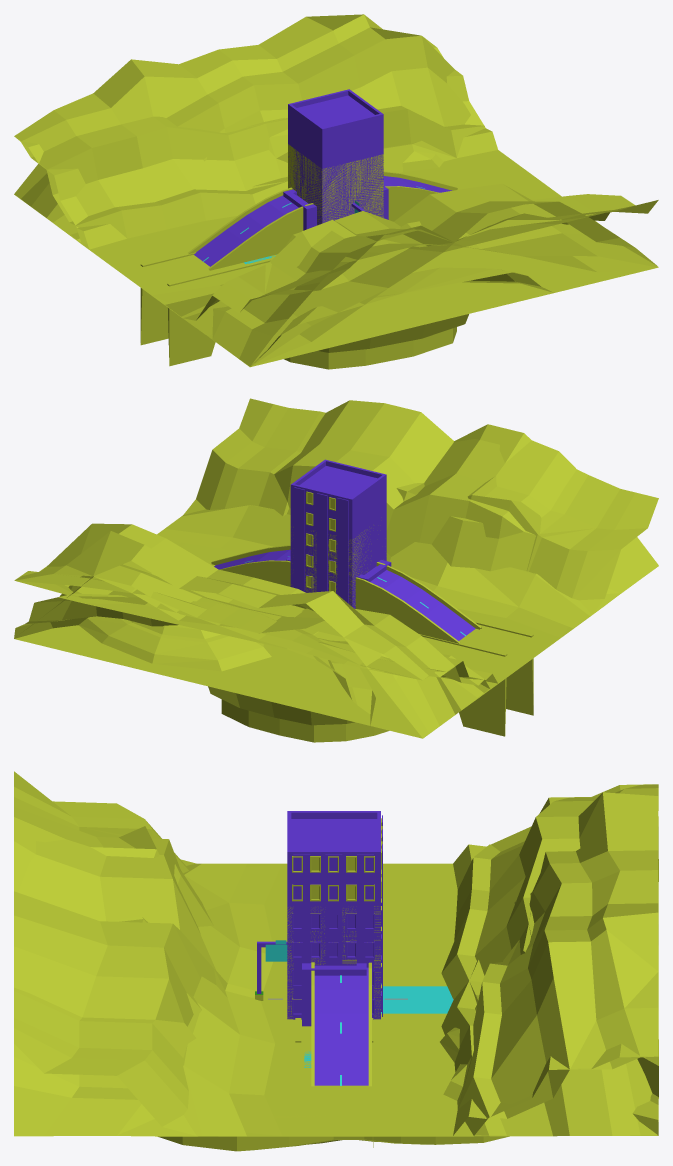
Rendered from env.FBX.
The picture shows the model from 3 angles, top to bottom: view 1: azimuth 30°, elevation 25°; view 2: azimuth 150°, elevation 25°; view 3: azimuth 270°, elevation 25°; orthographic projection. The views are drawn at different scales.
Visible parts, largest first — view 1: Biom01_central, Biom01_end, Biom01_01, Biom00_plane, Biom01_start, Box01, Biom00_dune, Biom00_roche, Biom01_mir01, Biom00_canionne, Pontdessou00, Box02 (+3 smaller); view 2: Biom01_central, Biom01_end, Biom01_start, Biom01_01, Biom01_mir01, Biom00_canionne, Biom00_dune, Biom00_plane, Box01, Biom00_roche, Pontdessou00, Box03 (+3 smaller); view 3: Biom01_central, Biom01_start, Biom01_01, Biom01_end, Biom01_mir01, Biom00_dune, Box01, Biom00_roche, Pontdessou00, Box03, Biom00_canionne, Biom00_lac (+4 smaller).
Part boxes in pixels (x1,y1,x2,y2): Biom01_central: (14, 14, 618, 320); Biom01_end: (14, 116, 657, 366); Biom01_01: (69, 37, 658, 320); Biom00_plane: (84, 151, 655, 365); Biom01_start: (152, 118, 657, 366); Box01: (288, 89, 383, 224); Biom00_dune: (46, 151, 652, 365); Biom00_roche: (19, 150, 653, 365); Biom01_mir01: (16, 37, 658, 366); Biom00_canionne: (14, 150, 654, 369); Pontdessou00: (188, 171, 457, 270); Box02: (288, 144, 383, 225); Biom01_central: (47, 408, 658, 685); Biom01_end: (15, 439, 658, 737); Biom01_start: (23, 400, 568, 683); Biom01_01: (15, 469, 647, 688); Biom01_mir01: (14, 398, 657, 682); Biom00_canionne: (15, 530, 571, 742); Biom00_dune: (21, 544, 577, 737); Biom00_plane: (17, 529, 571, 737); Box01: (290, 459, 386, 608); Biom00_roche: (14, 544, 658, 738); Pontdessou00: (211, 545, 481, 643); Box03: (294, 487, 348, 603); Biom01_central: (14, 771, 658, 1118); Biom01_start: (14, 827, 658, 1136); Biom01_01: (14, 788, 658, 1136); Biom01_end: (14, 807, 658, 1135); Biom01_mir01: (14, 784, 658, 1135); Biom00_dune: (247, 863, 644, 1135); Box01: (287, 811, 382, 1019); Biom00_roche: (229, 859, 658, 1135); Pontdessou00: (311, 962, 371, 1086); Box03: (293, 815, 382, 1019); Biom00_canionne: (158, 863, 651, 1151); Biom00_lac: (247, 866, 504, 1135).
Size of the model in its own units: 3000 by 1496 by 3002.
